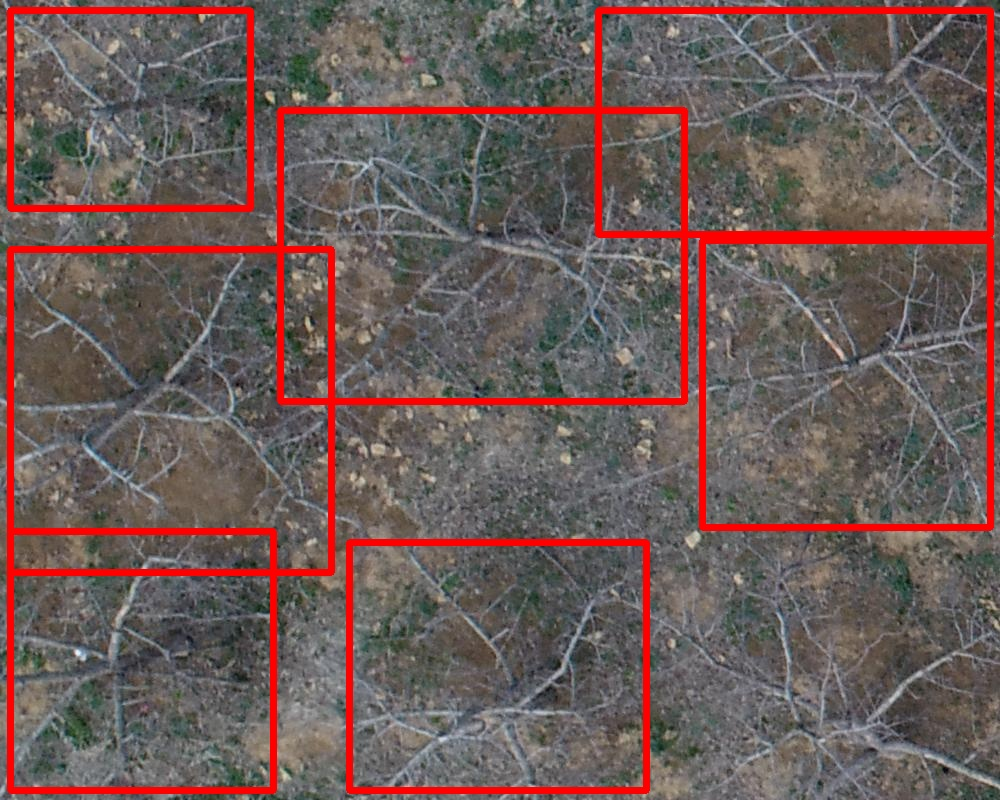apple: (280, 110, 684, 401), (10, 249, 331, 572), (598, 10, 990, 234), (702, 240, 990, 527), (349, 542, 646, 790), (10, 531, 273, 790), (10, 10, 250, 208)
